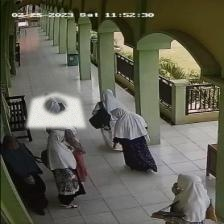Mukena: (26, 93, 85, 127)
